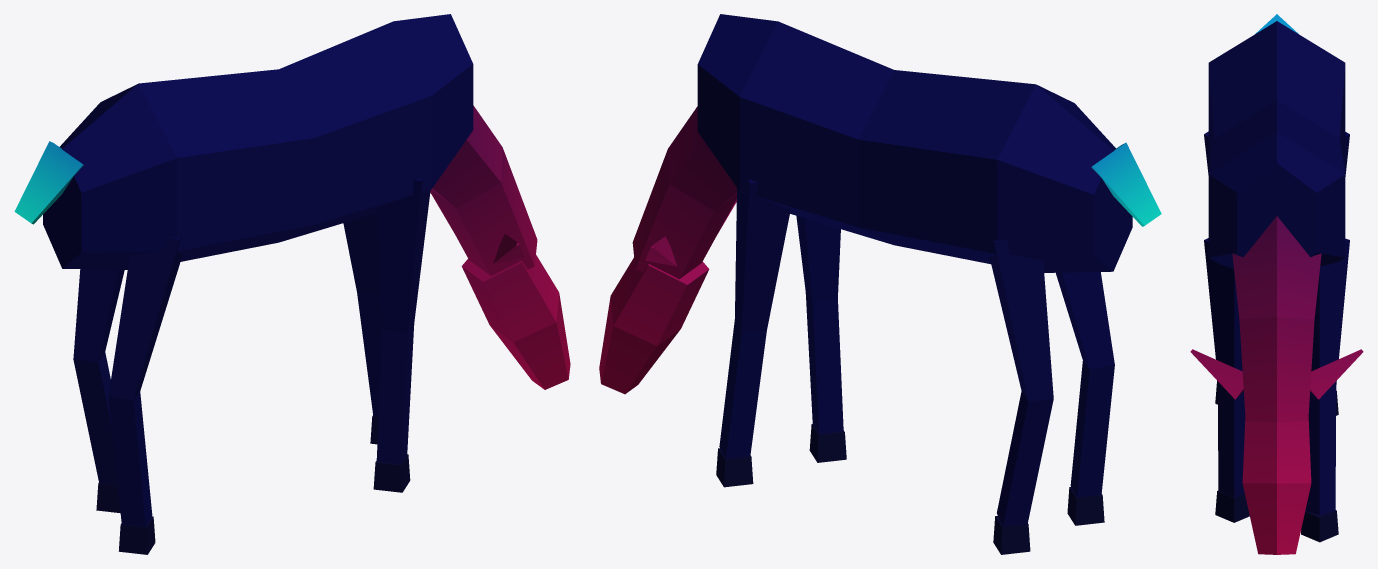
Rendered from ns-deer-b.glb.
3 views of the same model, side by side, from view 1: azimuth 30°, elevation 25°; view 2: azimuth 150°, elevation 25°; view 3: azimuth 270°, elevation 25° (orthographic). The views are drawn at different scales.
Visible parts, largest first — view 1: Sculpted silhouette, Tapered form.006, Tapered form.002, Tapered form.008, Tapered form.009, Tapered form.004, Tapered form, Tapered form.012, Tapered form.003, Tapered form.007; view 2: Sculpted silhouette, Tapered form.004, Tapered form, Tapered form.008, Tapered form.009, Tapered form.006, Tapered form.002, Tapered form.012, Tapered form.003, Tapered form.005, Tapered form.001, Tapered form.007; view 3: Sculpted silhouette, Tapered form.008, Tapered form.009, Tapered form, Tapered form.002, Tapered form.010, Tapered form.011, Tapered form.001, Tapered form.003.
Part boxes in pixels (x1,y1,x2,y2): Sculpted silhouette: (43, 14, 473, 269); Tapered form.006: (108, 236, 182, 526); Tapered form.002: (376, 178, 430, 464); Tapered form.008: (431, 105, 537, 275); Tapered form.009: (461, 255, 570, 389); Tapered form.004: (73, 269, 124, 484); Tapered form: (343, 213, 382, 416); Tapered form.012: (14, 141, 83, 224); Tapered form.003: (373, 454, 410, 492); Tapered form.007: (118, 516, 155, 554); Sculpted silhouette: (697, 14, 1132, 272); Tapered form.004: (989, 240, 1053, 526); Tapered form: (719, 179, 790, 458); Tapered form.008: (632, 106, 736, 279); Tapered form.009: (599, 257, 709, 394); Tapered form.006: (1056, 272, 1114, 497); Tapered form.002: (796, 216, 843, 434); Tapered form.012: (1091, 142, 1161, 226); Tapered form.003: (809, 424, 846, 462); Tapered form.005: (993, 516, 1030, 554); Tapered form.001: (716, 448, 753, 487); Tapered form.007: (1067, 487, 1104, 525); Sculpted silhouette: (1208, 21, 1345, 268); Tapered form.008: (1232, 216, 1321, 421); Tapered form.009: (1242, 418, 1311, 554); Tapered form: (1305, 238, 1349, 515); Tapered form.002: (1204, 238, 1245, 497); Tapered form.010: (1190, 349, 1243, 399); Tapered form.011: (1310, 349, 1363, 399); Tapered form.001: (1301, 510, 1338, 542); Tapered form.003: (1215, 491, 1249, 522).
Size of the model in its own units: 0.7856 by 0.594 by 0.2368.
